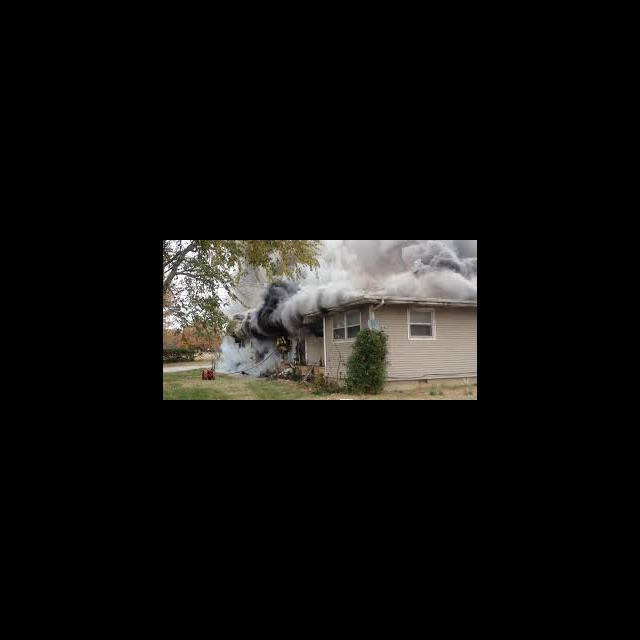Smoke: (217, 240, 477, 375)
